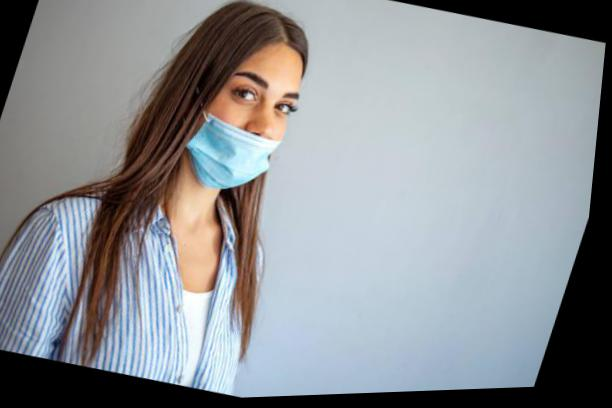WRONG: (179, 62, 309, 206)
